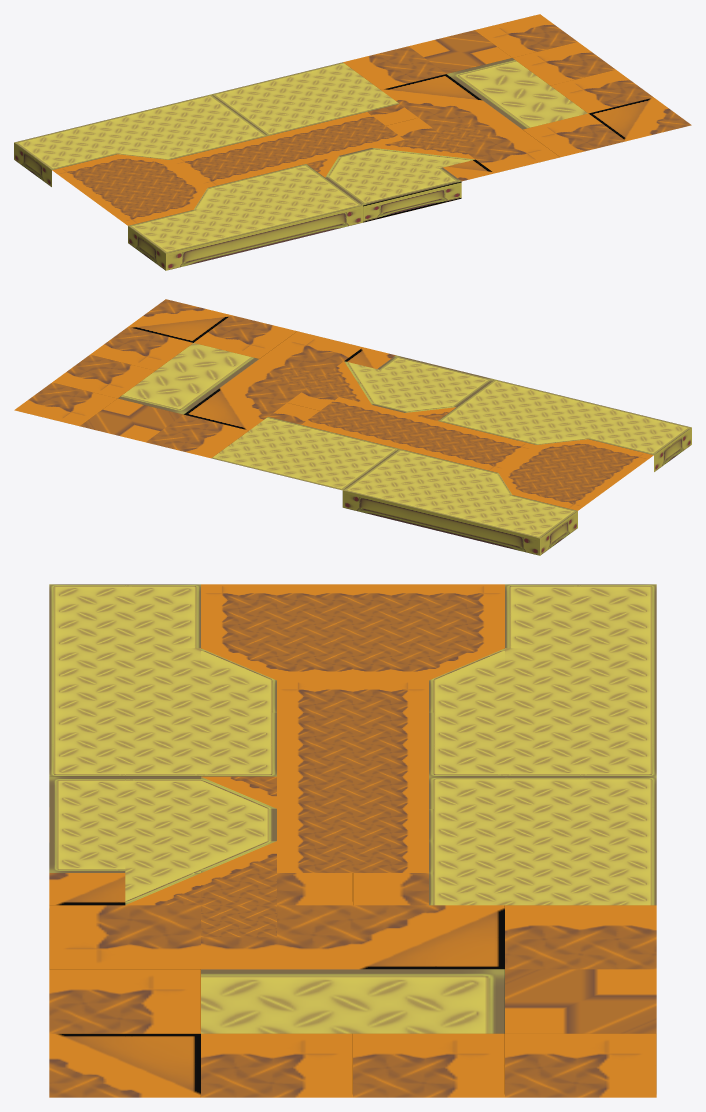
3 views of the same model, one above another, from view 1: azimuth 30°, elevation 25°; view 2: azimuth 150°, elevation 25°; view 3: azimuth 270°, elevation 25° (orthographic). The views are drawn at different scales.
Visible parts, largest first — view 1: Road; view 2: Road; view 3: Road.
Boxes of the visible parts, bbox=[...] form: Road: bbox=[14, 14, 691, 270]; Road: bbox=[14, 299, 691, 555]; Road: bbox=[49, 584, 656, 1097].
Bounding box in the file's own units: 1600 × 50 × 800.
